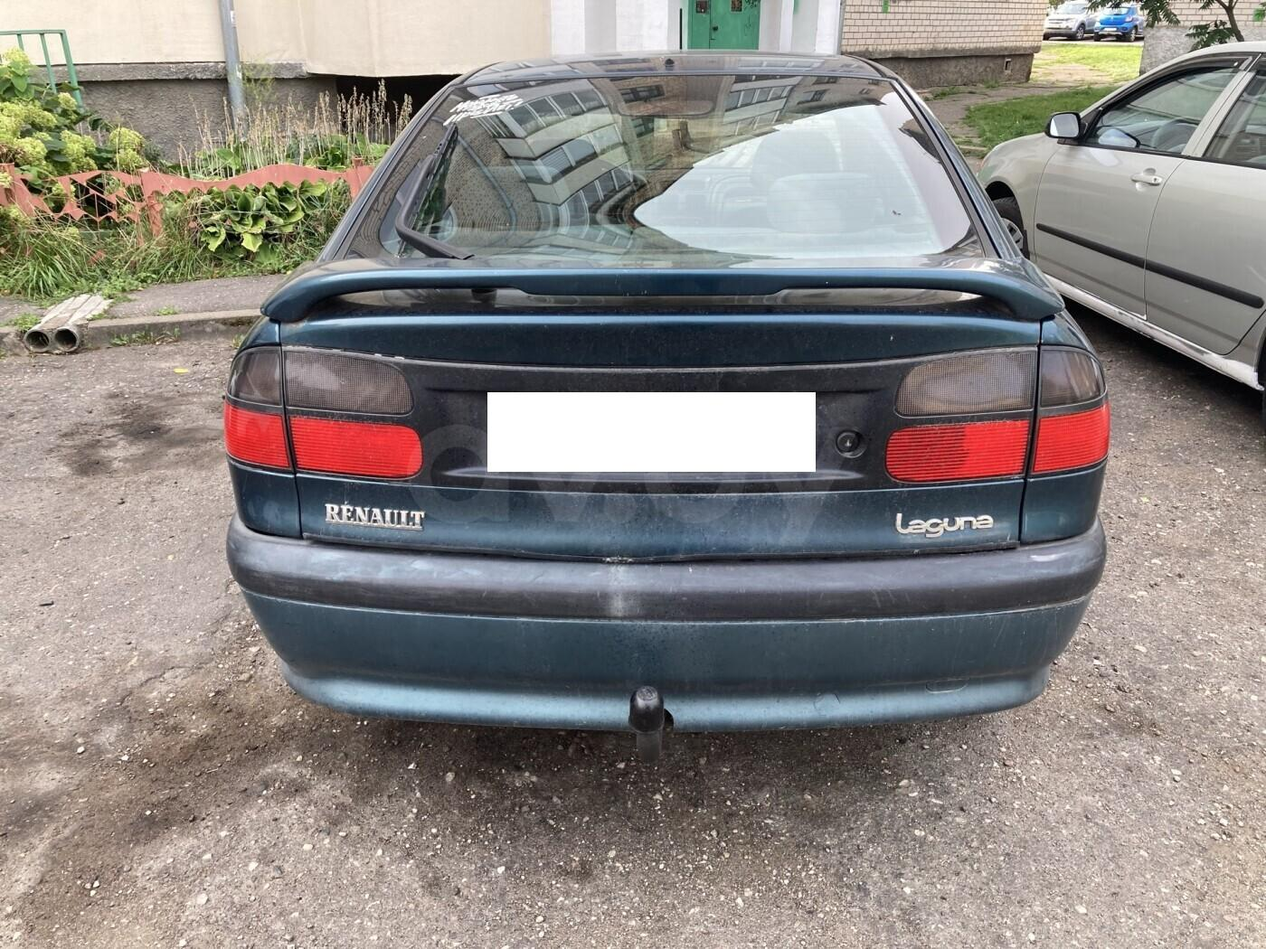Lahuna_1993-1999: (211, 40, 1114, 789)
